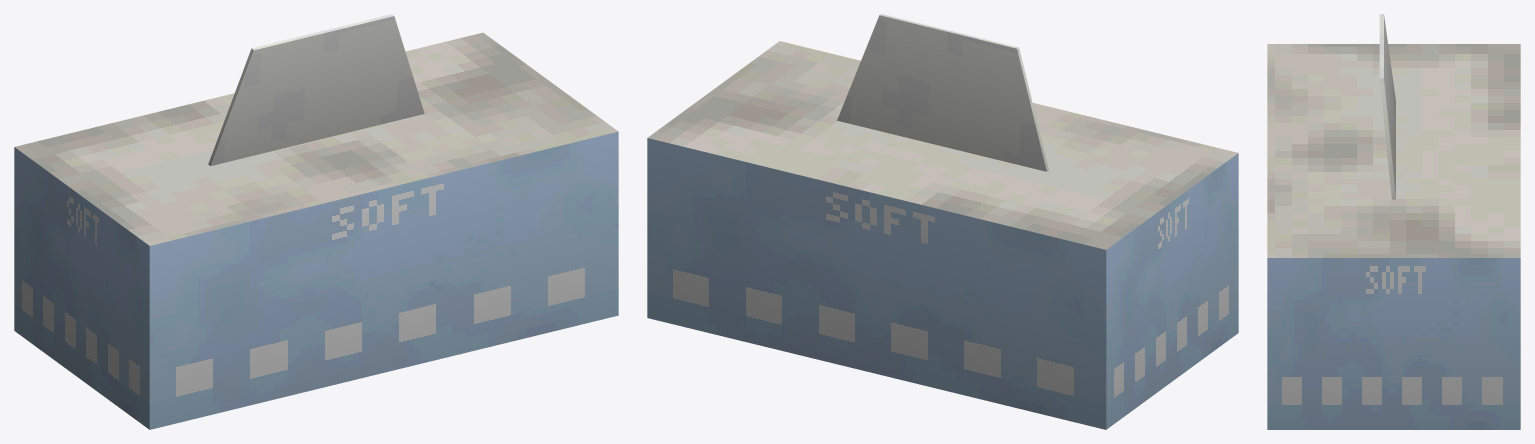
File: tissue_box.glb
The picture shows the model from 3 angles, left to right: view 1: azimuth 30°, elevation 25°; view 2: azimuth 150°, elevation 25°; view 3: azimuth 270°, elevation 25°; orthographic projection. The views are drawn at different scales.
Visible parts, largest first — view 1: tissue_box; view 2: tissue_box; view 3: tissue_box.
Boxes of the visible parts, left/top/right/bottom form: tissue_box: left=14, top=14, right=618, bottom=429; tissue_box: left=647, top=14, right=1238, bottom=429; tissue_box: left=1267, top=14, right=1520, bottom=429.
Size of the model in its own units: 0.24 by 0.1448 by 0.12.
1 material, 1 textured.
